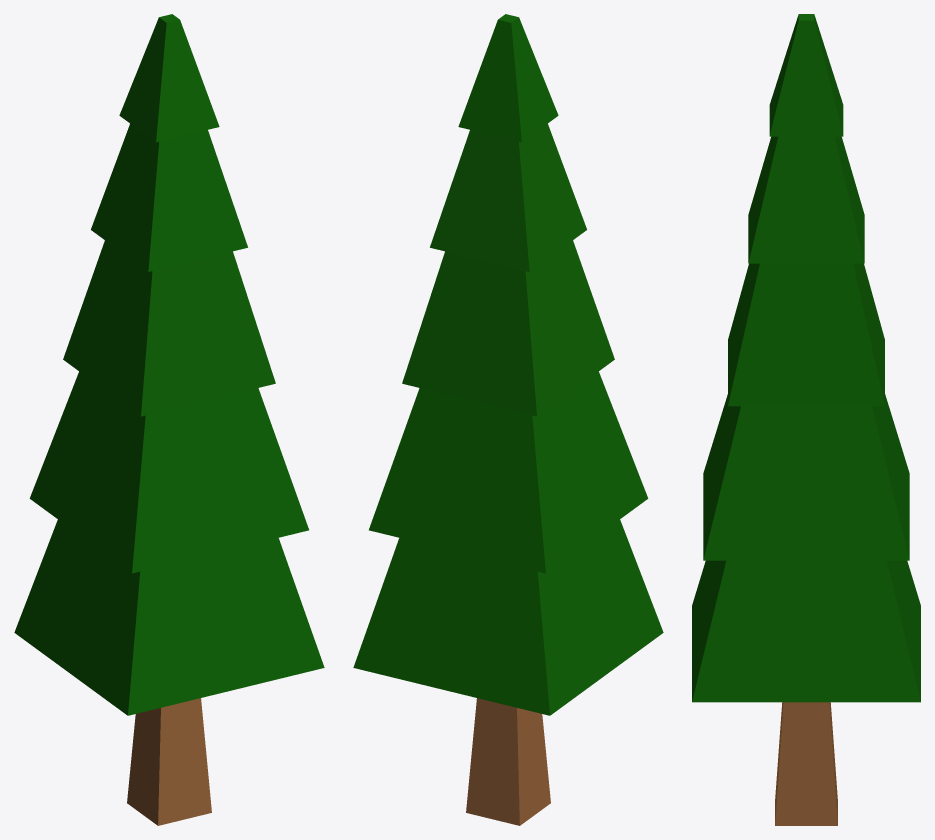
File: variant_2_dark.glb
3 views of the same model, side by side, from view 1: azimuth 30°, elevation 25°; view 2: azimuth 150°, elevation 25°; view 3: azimuth 270°, elevation 25° (orthographic).
Visible parts, largest first — view 1: Cube.010; view 2: Cube.010; view 3: Cube.010.
Part boxes in pixels (x1=…): Cube.010: x1=14, y1=14, x2=324, y2=825; Cube.010: x1=353, y1=14, x2=663, y2=825; Cube.010: x1=692, y1=14, x2=920, y2=825.
Bounding box in the file's own units: 0.4307 × 1.65 × 0.4307.
